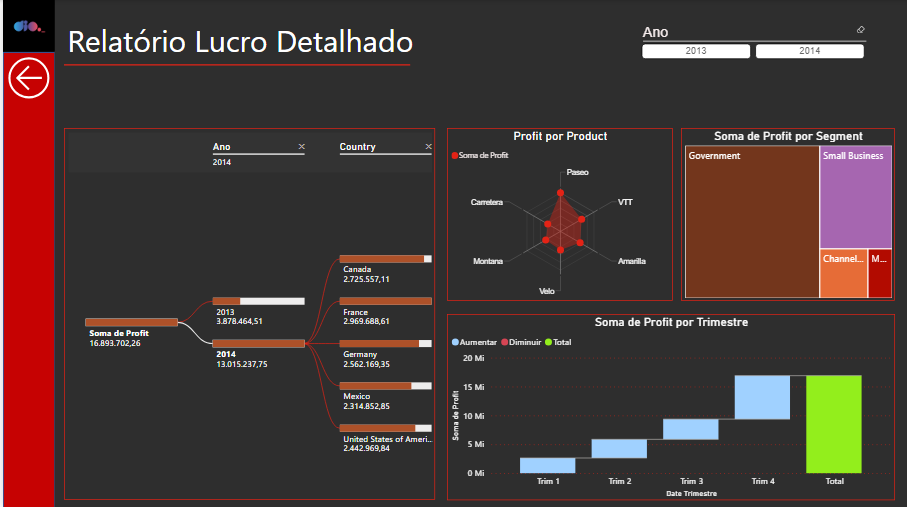

Layout of this report page (visuals, bound fields, positions):
{"tool":"powerbi","page":{"name":"Lucro Detalhado","canvas":[1280,720],"ordinal":1},"visuals":[{"type":"shape","box":[0,73.4,73.4,646.6],"z":0},{"type":"textbox","box":[86.4,23,525.6,74.9],"z":1000},{"type":"shape","box":[86.4,59,491,64.8],"z":2000},{"type":"ChicletSlicer1448559807354","fields":{"Category":["Sheet1.Date.Variation.Hierarquia de datas.Ano"]},"box":[897.2,29.8,331.7,68],"z":3000},{"type":"RadarChart1446119667547","title":"Profit por Product","fields":{"Y":["Sum(Sheet1.Profit)"],"Category":["Sheet1.Product"]},"box":[629.3,181.4,319.7,244.8],"z":4000},{"type":"treemap","fields":{"Values":["Sum(Sheet1.Profit)"],"Group":["Sheet1.Segment"]},"box":[960.9,181.4,303.3,245.2],"z":5000},{"type":"decompositionTreeVisual","fields":{"ExplainBy":["Sheet1.Date.Variation.Hierarquia de datas.Ano","Sheet1.Country"],"Analyze":["Sum(Sheet1.Profit)"]},"box":[86.4,181.4,525.6,527],"z":7000},{"type":"actionButton","box":[0,73.4,73.4,73.4],"z":8000},{"type":"image","box":[0,0,73.4,73.4],"z":9000},{"type":"waterfallChart","fields":{"Category":["financials.Date.Variation.Hierarquia de datas.Trimestre"],"Y":["Sum(financials.Profit)"]},"box":[629.3,445,635,263.6],"z":9001}]}

Visuals, with their boxes in screenshot pixels (x1, y1, x2, y2), scaled from the page's 1280x720 canvas onto the 907x507 screenshot:
shape: 0:52:52:506
textbox: 61:16:434:69
shape: 61:42:409:87
ChicletSlicer1448559807354 - Sheet1.Date.Variation.Hierarquia de datas.Ano: 636:21:871:69
"Profit por Product" RadarChart1446119667547: 446:128:672:300
treemap - Sum(Sheet1.Profit) x Sheet1.Segment: 681:128:896:300
decompositionTreeVisual - Sheet1.Date.Variation.Hierarquia de datas.Ano x Sheet1.Country: 61:128:434:499
actionButton: 0:52:52:103
image: 0:0:52:52
waterfallChart - financials.Date.Variation.Hierarquia de datas.Trimestre x Sum(financials.Profit): 446:313:896:499
